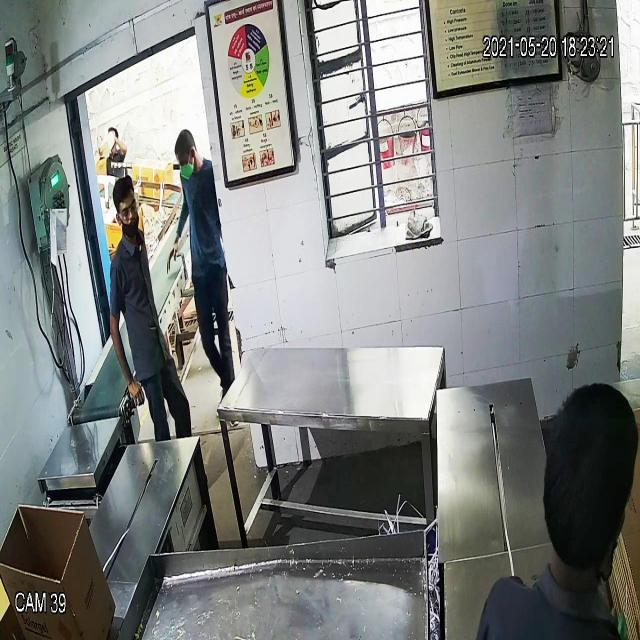glasses: (114, 202, 140, 226)
